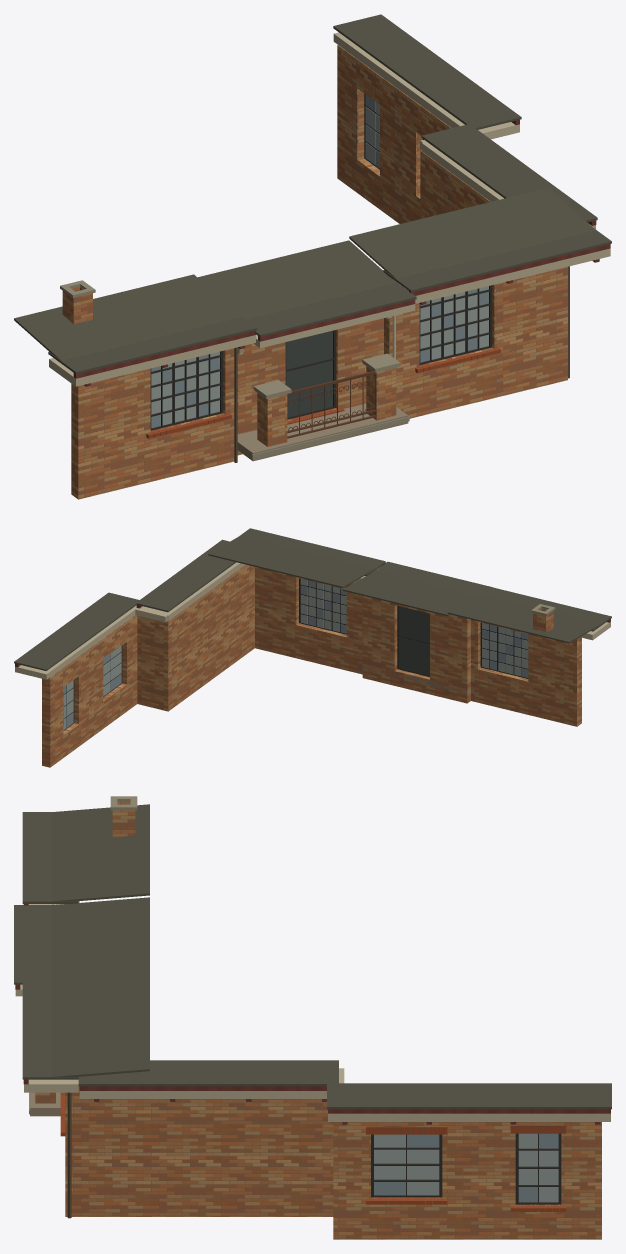
File: xuhui-gaoyou-lane-5-no-32-garden-balcony-lod.glb
The picture shows the model from 3 angles, top to bottom: view 1: azimuth 30°, elevation 25°; view 2: azimuth 150°, elevation 25°; view 3: azimuth 270°, elevation 25°; orthographic projection. The views are drawn at different scales.
Visible parts, largest first — view 1: 高邮路5弄32号住宅花园阳台与清水砖转角; view 2: 高邮路5弄32号住宅花园阳台与清水砖转角; view 3: 高邮路5弄32号住宅花园阳台与清水砖转角.
Part boxes in pixels (x1,y1,x2,y2): 高邮路5弄32号住宅花园阳台与清水砖转角: (14, 14, 611, 499); 高邮路5弄32号住宅花园阳台与清水砖转角: (14, 528, 611, 767); 高邮路5弄32号住宅花园阳台与清水砖转角: (14, 796, 611, 1239).
Size of the model in its own units: 11.49 by 3.39 by 9.84.
Materials: 15 (2 with a texture image).
